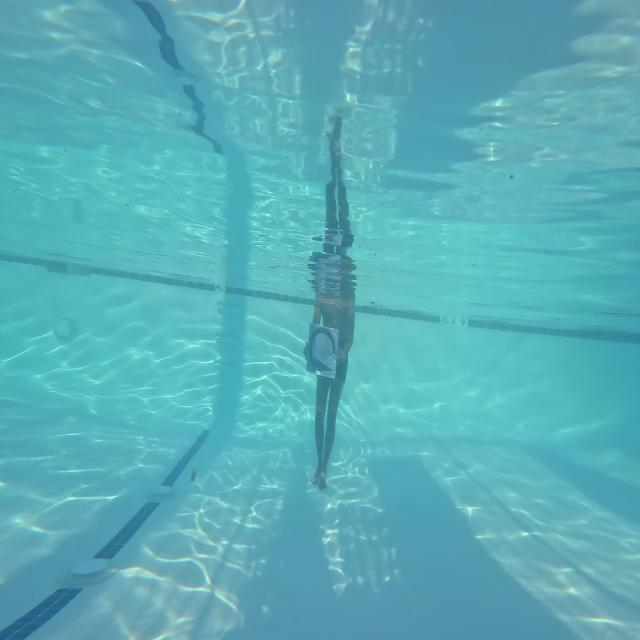blue_side: (308, 325, 338, 378)
